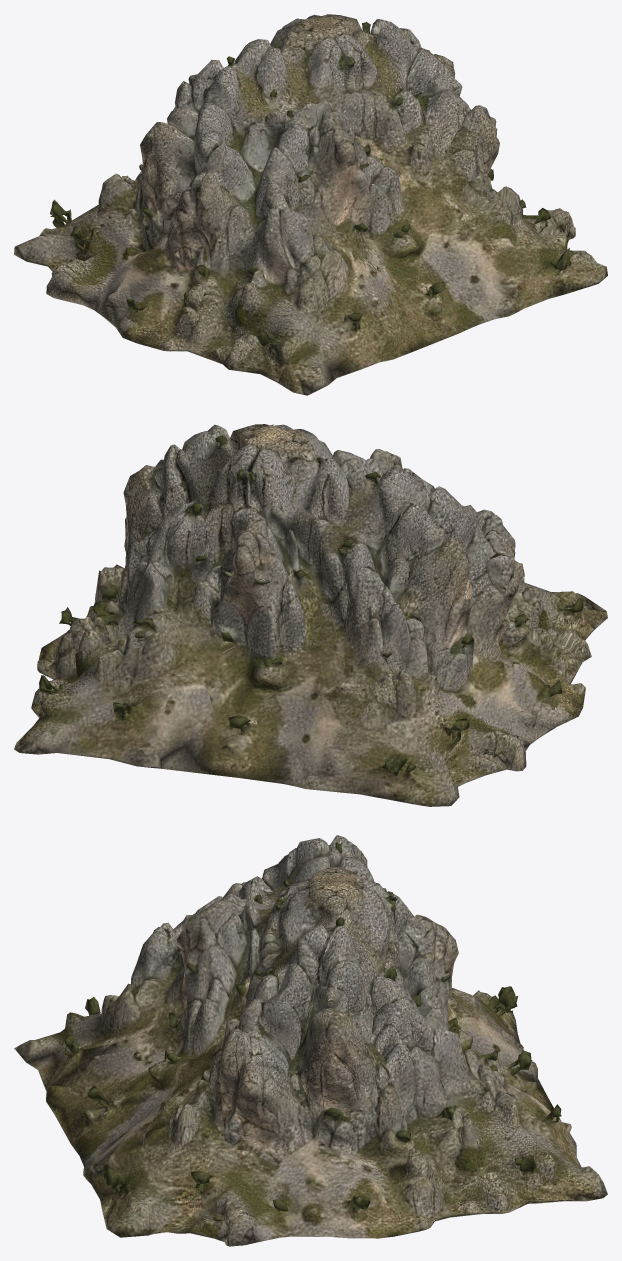
File: mountain.glb
3 views of the same model, one above another, from view 1: azimuth 30°, elevation 25°; view 2: azimuth 150°, elevation 25°; view 3: azimuth 270°, elevation 25° (orthographic). The views are drawn at different scales.
Visible parts, largest first — view 1: tripo_node_359d6d49-30b4-4834-a321-8c29288d3b95; view 2: tripo_node_359d6d49-30b4-4834-a321-8c29288d3b95; view 3: tripo_node_359d6d49-30b4-4834-a321-8c29288d3b95.
Part boxes in pixels (<box>): tripo_node_359d6d49-30b4-4834-a321-8c29288d3b95: <box>14,14,607,395</box>; tripo_node_359d6d49-30b4-4834-a321-8c29288d3b95: <box>14,424,607,806</box>; tripo_node_359d6d49-30b4-4834-a321-8c29288d3b95: <box>14,835,607,1246</box>.
Bounding box in the file's own units: 0.9691 × 0.4644 × 0.9769.
Materials: 1 (1 with a texture image).
